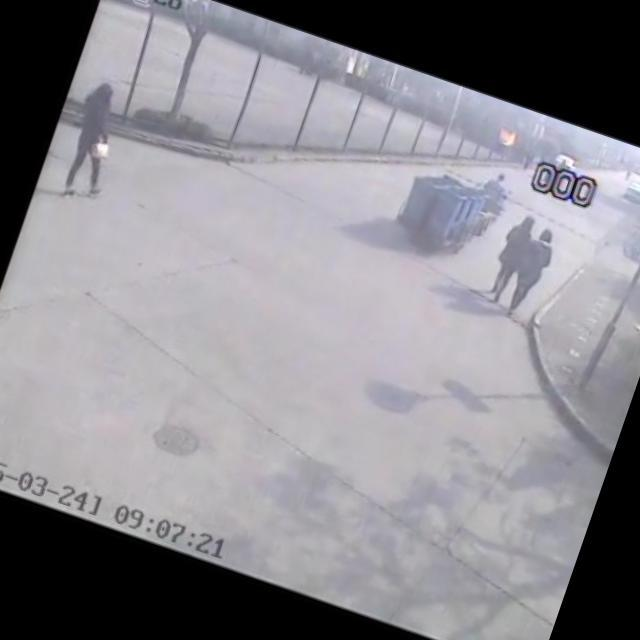person: (50, 76, 137, 209), (498, 218, 566, 324), (481, 208, 542, 312), (484, 166, 515, 199)
